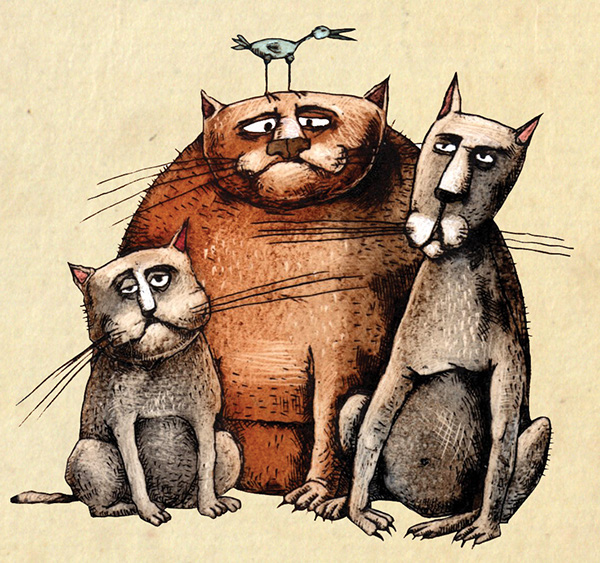bird: (217, 11, 378, 65)
cat: (406, 71, 561, 491), (49, 220, 244, 517), (179, 76, 401, 220)
